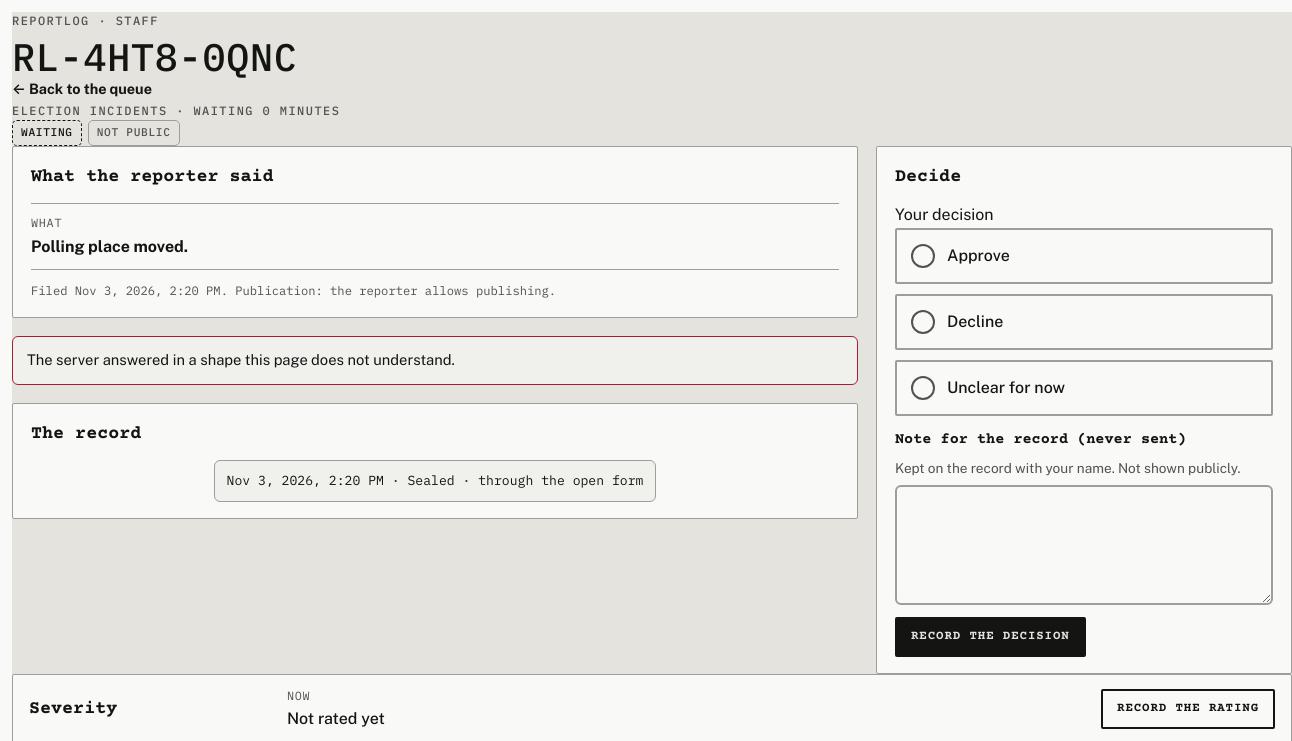
Scenario: two moderators on one report › a decision on a report somebody else decided shows the server's sentence and records nothing
Step 1. Click the radio button labelled "Approve" → (978, 255), box 895,228 -> 1273,284
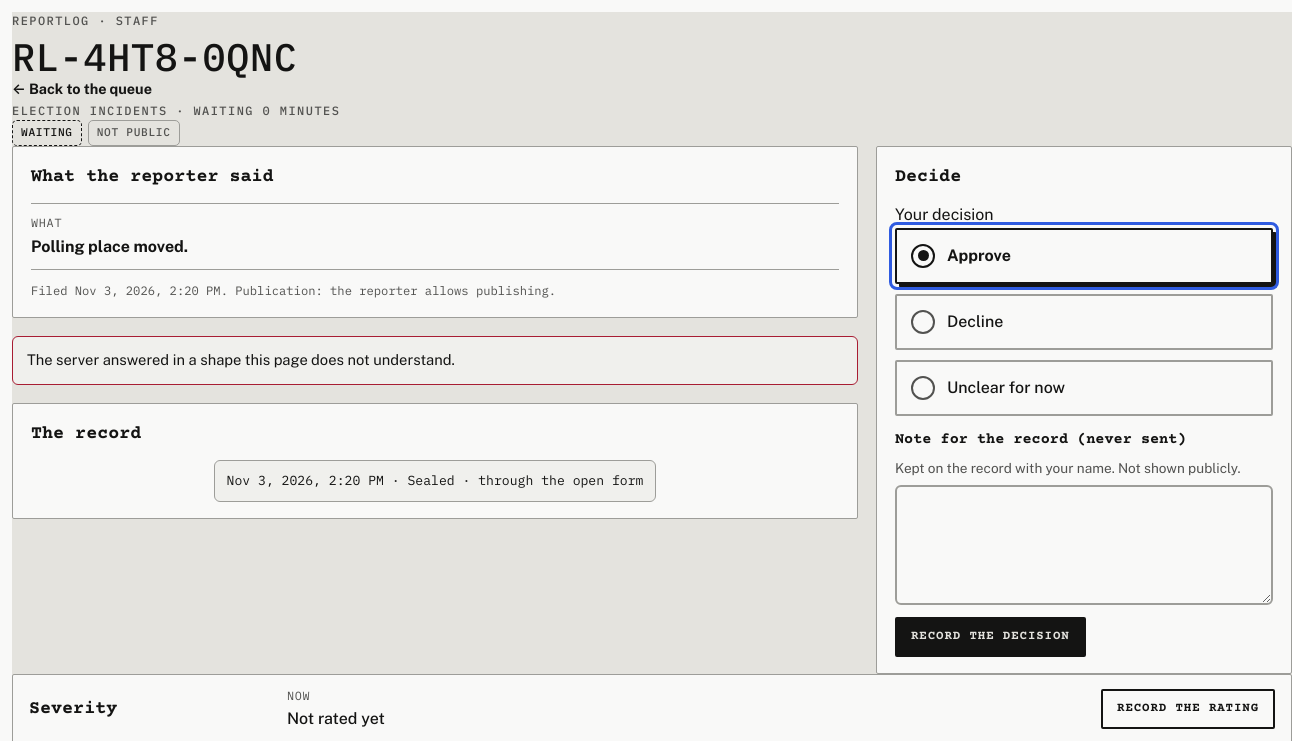
Step 2. Click the button "Record the decision" → (990, 637), box 895,617 -> 1086,657
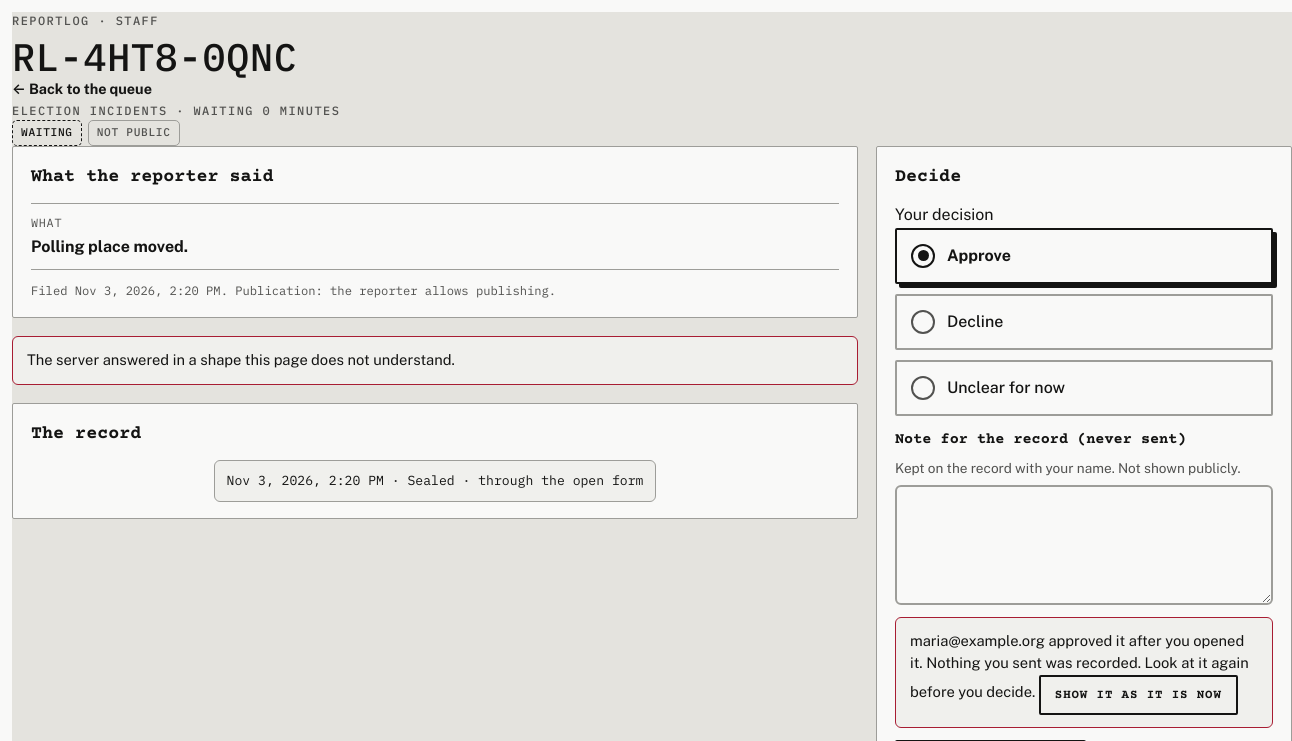
Expected: the text "maria@example.org approved it after you opened it. Nothing you sent was recorded. Look at it again before you decide." is shown, 910,632 -> 1249,701
Expected: the button "Show it as it is now" is shown, 1039,675 -> 1238,715
